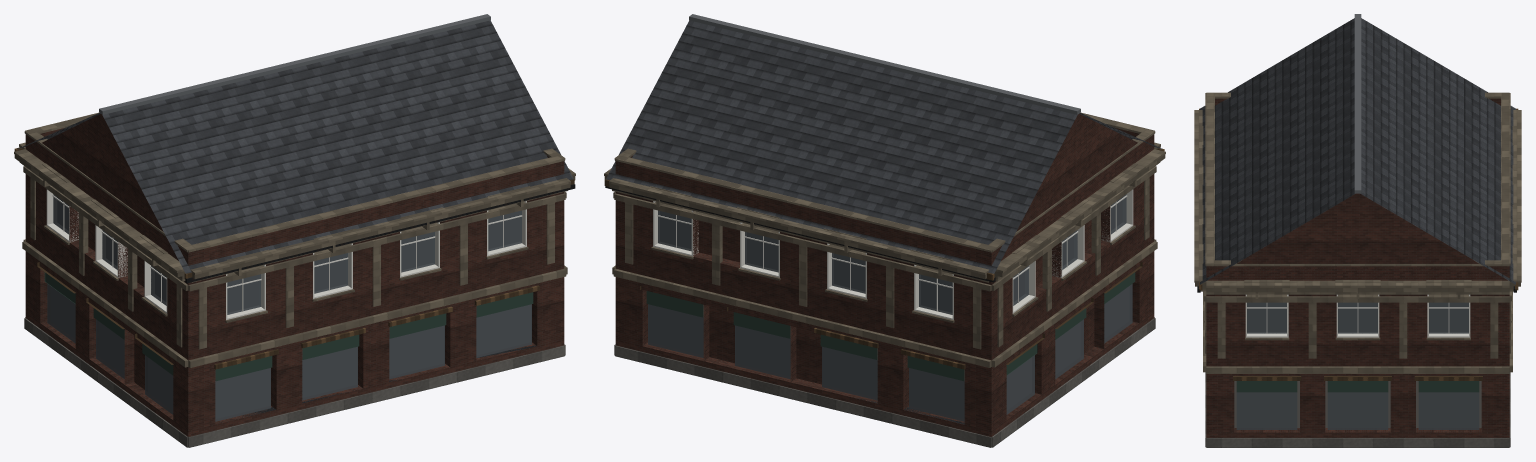
The model's file is A_chandlery.glb.
3 views of the same model, side by side, from view 1: azimuth 30°, elevation 25°; view 2: azimuth 150°, elevation 25°; view 3: azimuth 270°, elevation 25° (orthographic). The views are drawn at different scales.
Visible parts, largest first — view 1: A_chandlery; view 2: A_chandlery; view 3: A_chandlery.
Boxes of the visible parts, x1,y1,x2,y2 form: A_chandlery: (14, 14, 575, 447); A_chandlery: (604, 14, 1165, 447); A_chandlery: (1194, 14, 1521, 447).
Size of the model in its own units: 16.98 by 11.36 by 12.98.
Materials: 13 (8 with a texture image).
